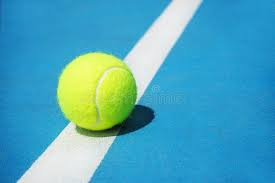tennis_ball: (55, 50, 138, 132)
